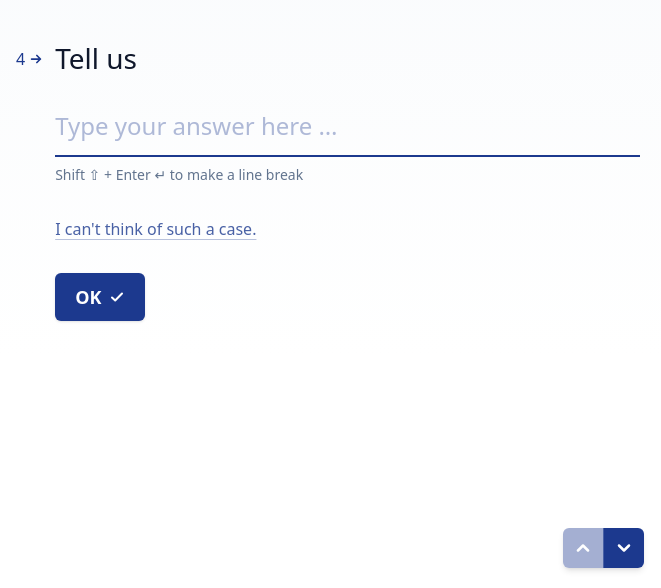
Test: QuestionScreen with an escape › shows a server error after the escape
Click the button "I can't think of such a case.".
click(156, 229)  # box 55,217 -> 256,241
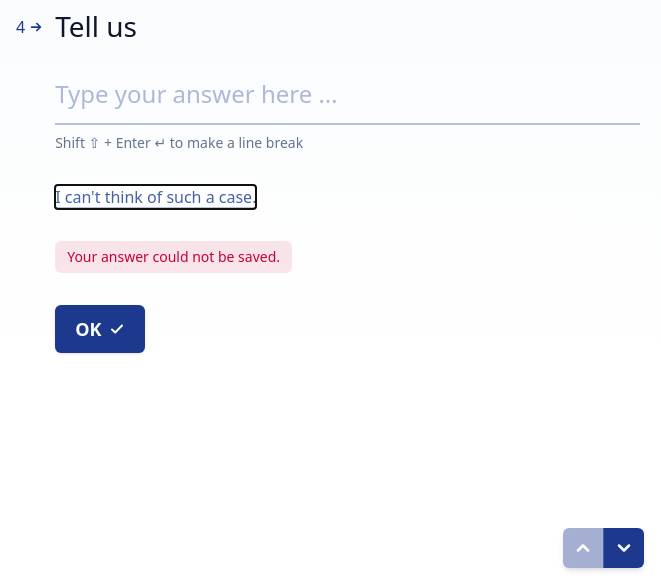
Check: the message shows "could not be saved", box 67,247 -> 280,266
